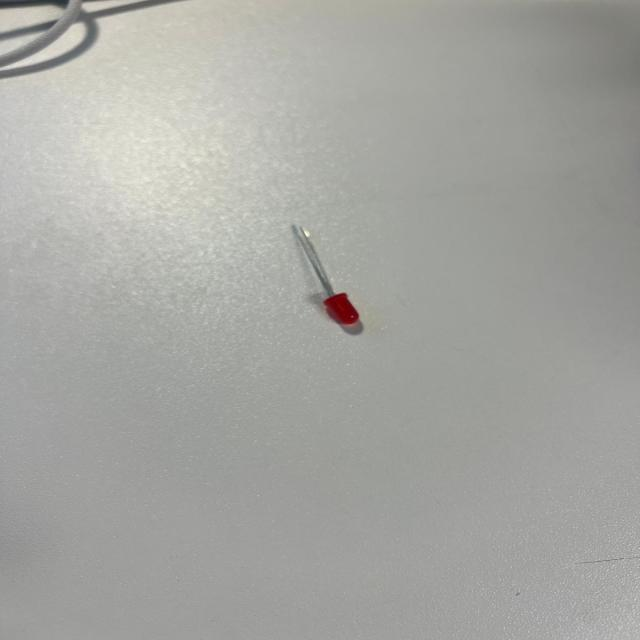REDLed: (272, 219, 384, 333)
